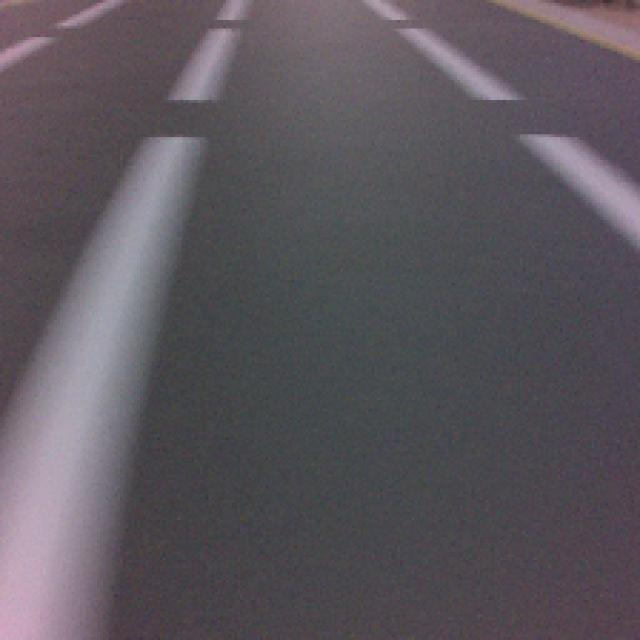Road: (105, 376, 638, 639)
